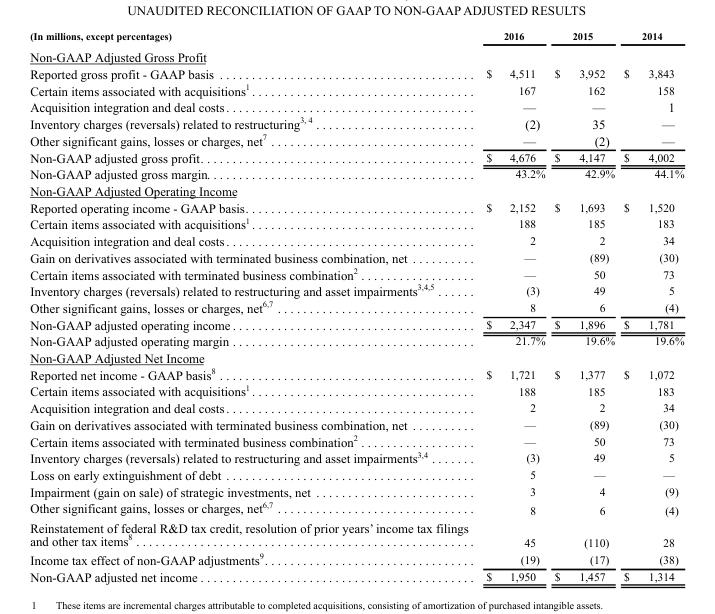table: (29, 29, 683, 583)
table column: (29, 29, 476, 583), (476, 29, 549, 583), (549, 29, 618, 583), (618, 29, 683, 583)
table column header: (29, 29, 683, 45)
table projected row header: (29, 45, 683, 65), (29, 182, 683, 198), (29, 349, 683, 365)
table row: (29, 518, 683, 549), (29, 45, 683, 65), (29, 498, 683, 518), (29, 214, 683, 232), (29, 381, 683, 399), (29, 448, 683, 466), (29, 549, 683, 567), (29, 81, 683, 98), (29, 114, 683, 131), (29, 131, 683, 148), (29, 148, 683, 165), (29, 165, 683, 182), (29, 232, 683, 249), (29, 264, 683, 281), (29, 281, 683, 298), (29, 298, 683, 315), (29, 315, 683, 332), (29, 332, 683, 349), (29, 399, 683, 416), (29, 466, 683, 483), (29, 29, 683, 45), (29, 65, 683, 81), (29, 98, 683, 114), (29, 182, 683, 198), (29, 198, 683, 214), (29, 349, 683, 365), (29, 365, 683, 381), (29, 416, 683, 432), (29, 432, 683, 448), (29, 567, 683, 583), (29, 249, 683, 264), (29, 483, 683, 498)
